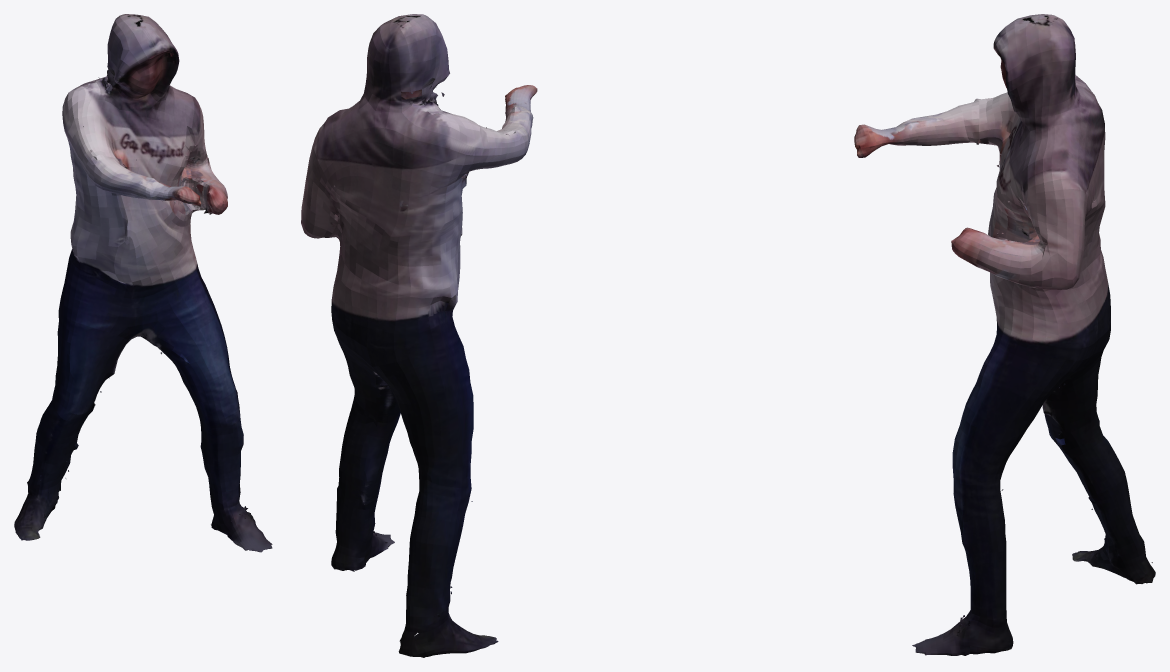
File: AB-2punch_0000045.obj
3 views of the same model, side by side, from view 1: azimuth 30°, elevation 25°; view 2: azimuth 150°, elevation 25°; view 3: azimuth 270°, elevation 25° (orthographic). The views are drawn at different scales.
Visible parts, largest first — view 1: Retopo_frame_0000045_mesh; view 2: Retopo_frame_0000045_mesh; view 3: Retopo_frame_0000045_mesh.
Part boxes in pixels (x1,y1,x2,y2): Retopo_frame_0000045_mesh: (14,14,272,552); Retopo_frame_0000045_mesh: (301,14,537,657); Retopo_frame_0000045_mesh: (854,14,1155,655).
Size of the model in its own units: 0.7861 by 1.76 by 1.15.
Materials: 1 (1 with a texture image).
